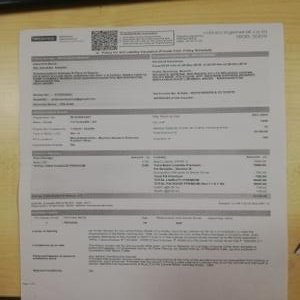table: (31, 57, 268, 108), (32, 148, 270, 198), (35, 111, 272, 149), (28, 210, 272, 225), (30, 200, 272, 211)
text: (28, 227, 271, 277), (200, 28, 271, 44)
